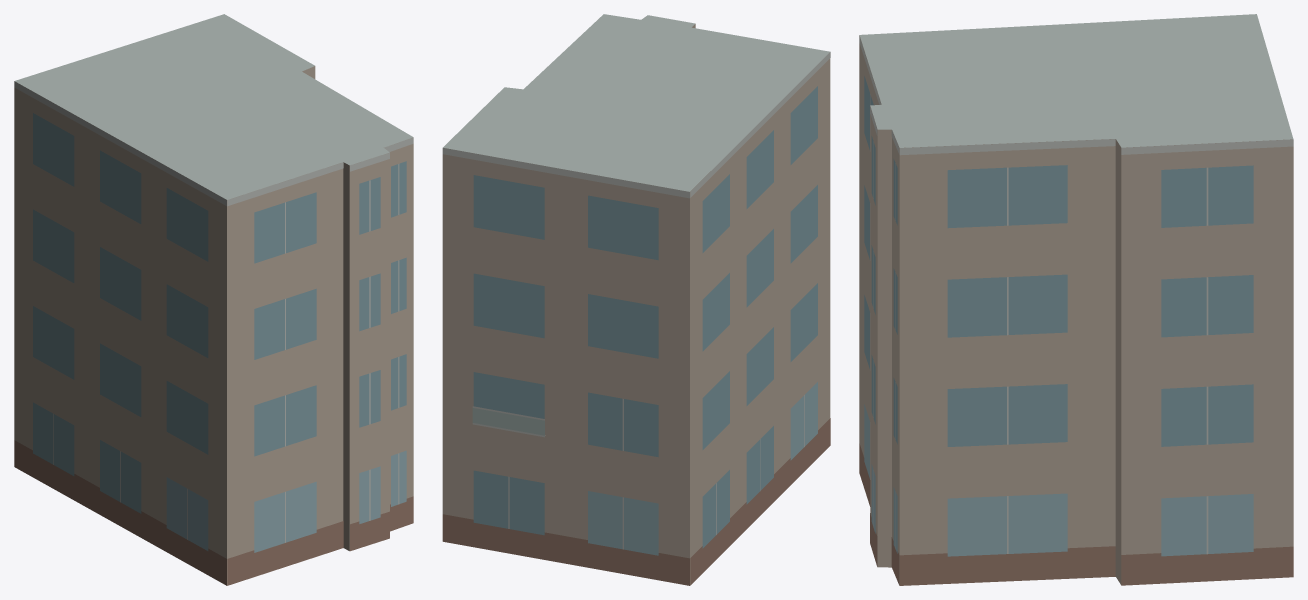
File: survey-upis-32758296.glb
3 renders of one model, left to right at view 1: azimuth 30°, elevation 25°; view 2: azimuth 150°, elevation 25°; view 3: azimuth 270°, elevation 25°, orthographic. The views are drawn at different scales.
Visible parts, largest first — view 1: survey-upis-32758296.tmp; view 2: survey-upis-32758296.tmp; view 3: survey-upis-32758296.tmp.
Part boxes in pixels (x1=…): survey-upis-32758296.tmp: x1=14, y1=14, x2=413, y2=585; survey-upis-32758296.tmp: x1=442, y1=14, x2=830, y2=585; survey-upis-32758296.tmp: x1=859, y1=14, x2=1293, y2=585.
Bounding box in the file's own units: 9.69 × 14.75 × 13.26.
